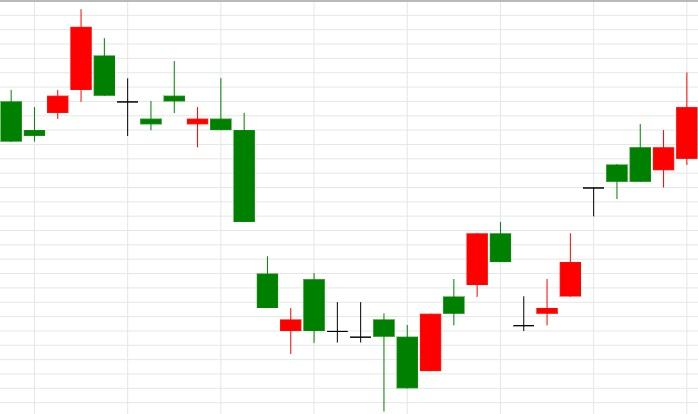hammer_rise: (69, 9, 396, 411)
